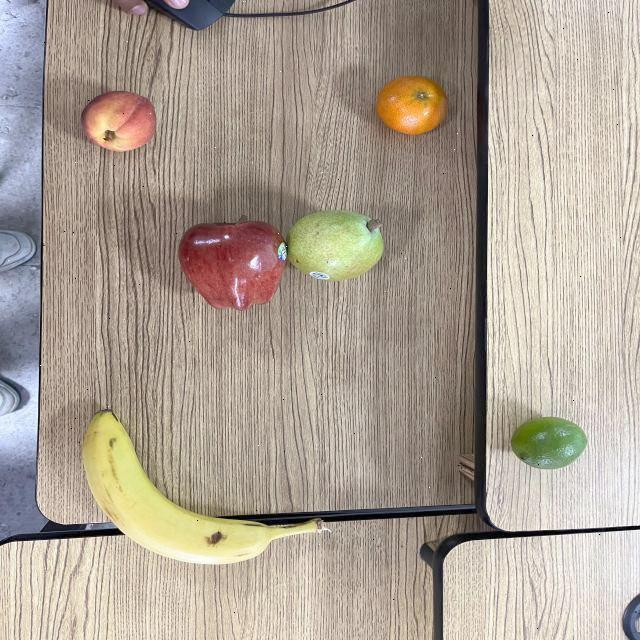Apel Merah: (176, 212, 294, 315)
Jeruk Mandarin: (372, 72, 452, 137)
Lemon: (506, 412, 592, 478)
Persik: (77, 88, 162, 155)
Pir: (280, 206, 392, 292)
Pisang: (79, 406, 332, 569)
